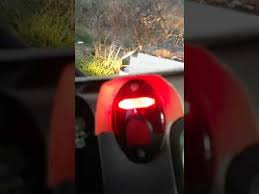bell: (112, 78, 167, 167)
